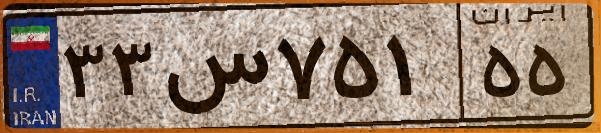1: (385, 28, 445, 110)
3: (57, 26, 110, 100), (110, 28, 158, 98)
5: (330, 28, 385, 110), (475, 38, 525, 113), (525, 38, 570, 115)
7: (270, 28, 330, 110)
س: (158, 20, 270, 120)
